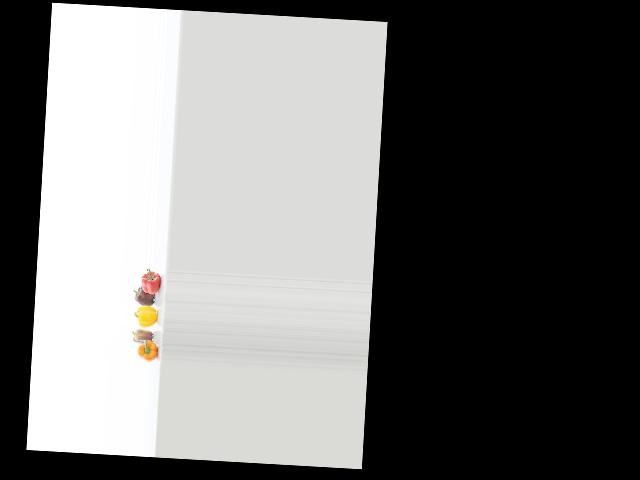bell_pepper: (130, 338, 160, 362)
